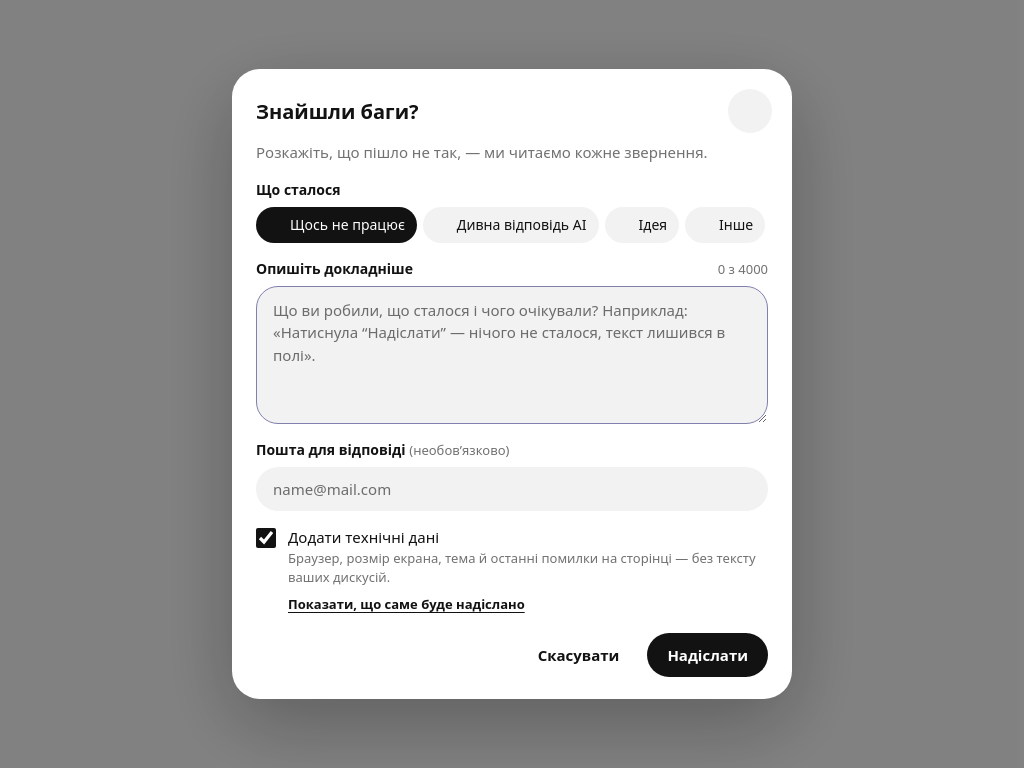
Scenario: «Знайшли баги?» › показує помилку сервера й не губить опис
Type "Сторінка історії не відкривається" into the text box labelled "Опишіть докладніше". click: [512, 355]
box: [256,286,768,424]
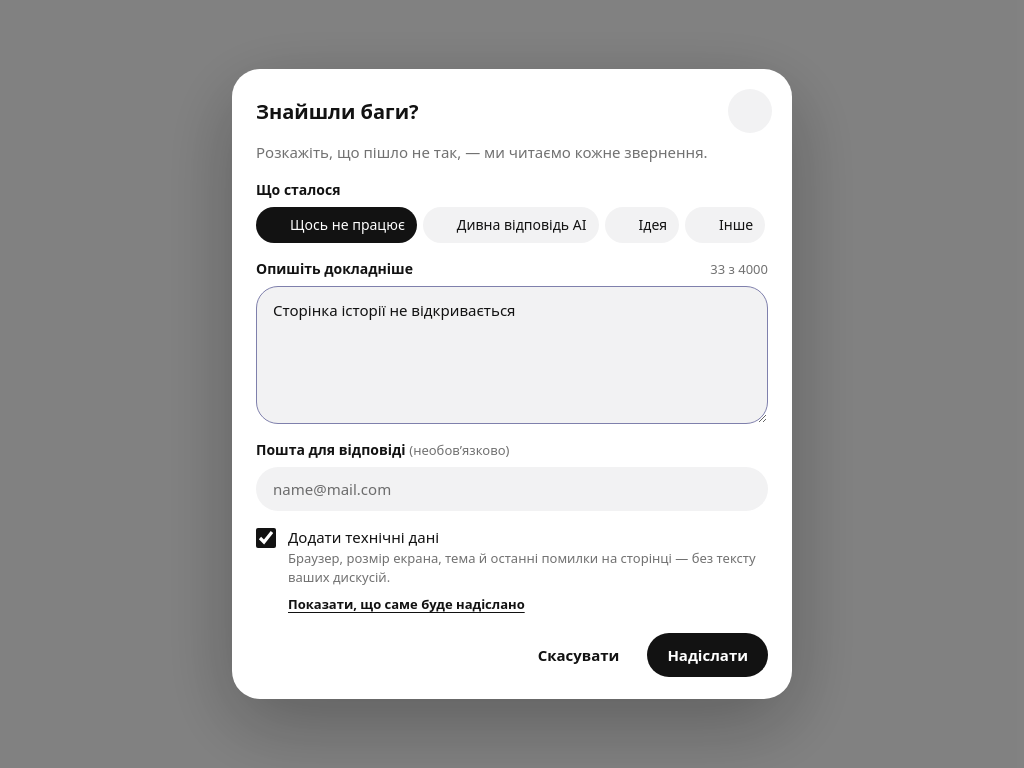
Click the button "Надіслати". click: [708, 655]
box: [647,633,768,677]
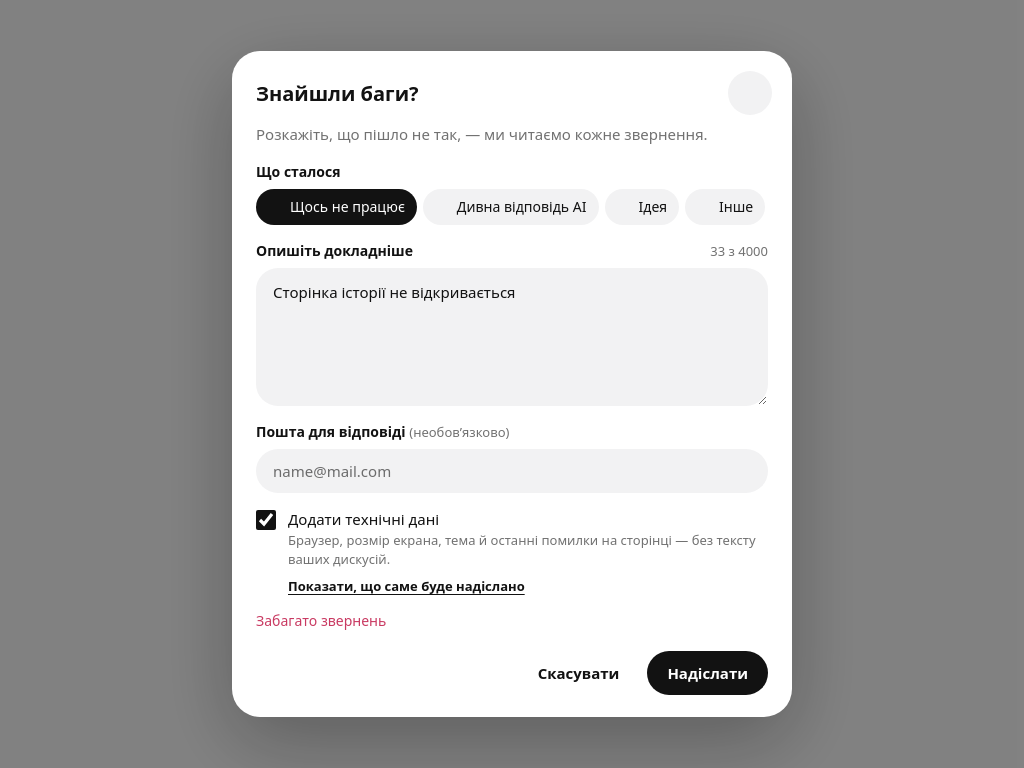
Expected: the message reads "Забагато звернень", [256,611,386,630]
